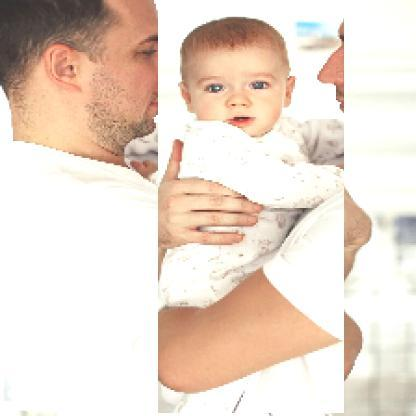child: (159, 16, 346, 415)
